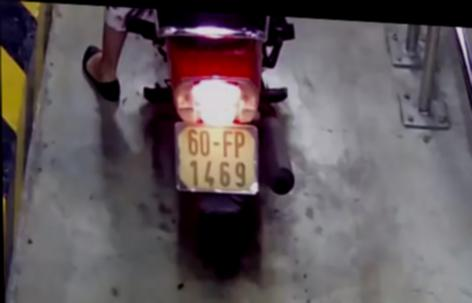License_Plate: (167, 118, 265, 204)
